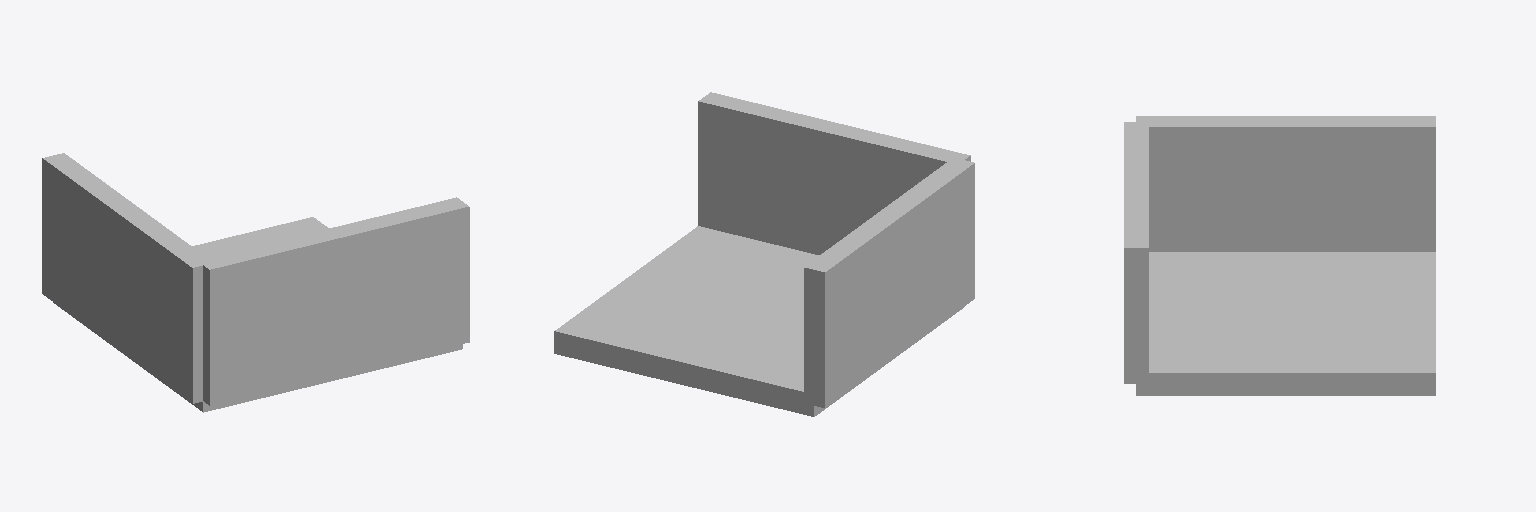
The model's file is tile5.obj.
3 renders of one model, left to right at view 1: azimuth 30°, elevation 25°; view 2: azimuth 150°, elevation 25°; view 3: azimuth 270°, elevation 25°, orthographic.
Visible parts, largest first — view 1: Cube.002_Cube.005, Cube.001_Cube.004, Cube_Cube.001; view 2: Cube_Cube.001, Cube.001_Cube.004, Cube.002_Cube.005; view 3: Cube_Cube.001, Cube.001_Cube.004, Cube.002_Cube.005.
Boxes of the visible parts, x1=… form: Cube.002_Cube.005: x1=203, y1=197, x2=469, y2=405; Cube.001_Cube.004: x1=42, y1=153, x2=213, y2=403; Cube_Cube.001: x1=53, y1=217, x2=462, y2=412; Cube_Cube.001: x1=554, y1=226, x2=963, y2=416; Cube.001_Cube.004: x1=804, y1=158, x2=974, y2=407; Cube.002_Cube.005: x1=698, y1=92, x2=970, y2=254; Cube_Cube.001: x1=1136, y1=252, x2=1435, y2=395; Cube.001_Cube.004: x1=1136, y1=116, x2=1435, y2=251; Cube.002_Cube.005: x1=1124, y1=122, x2=1148, y2=383.
Bounding box in the file's own units: 12.5 × 6.5 × 12.5.